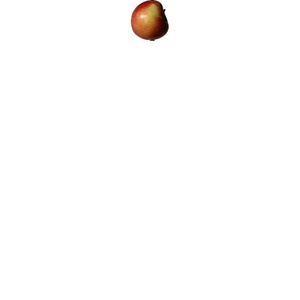maçã braeburn: (130, 1, 171, 42)
